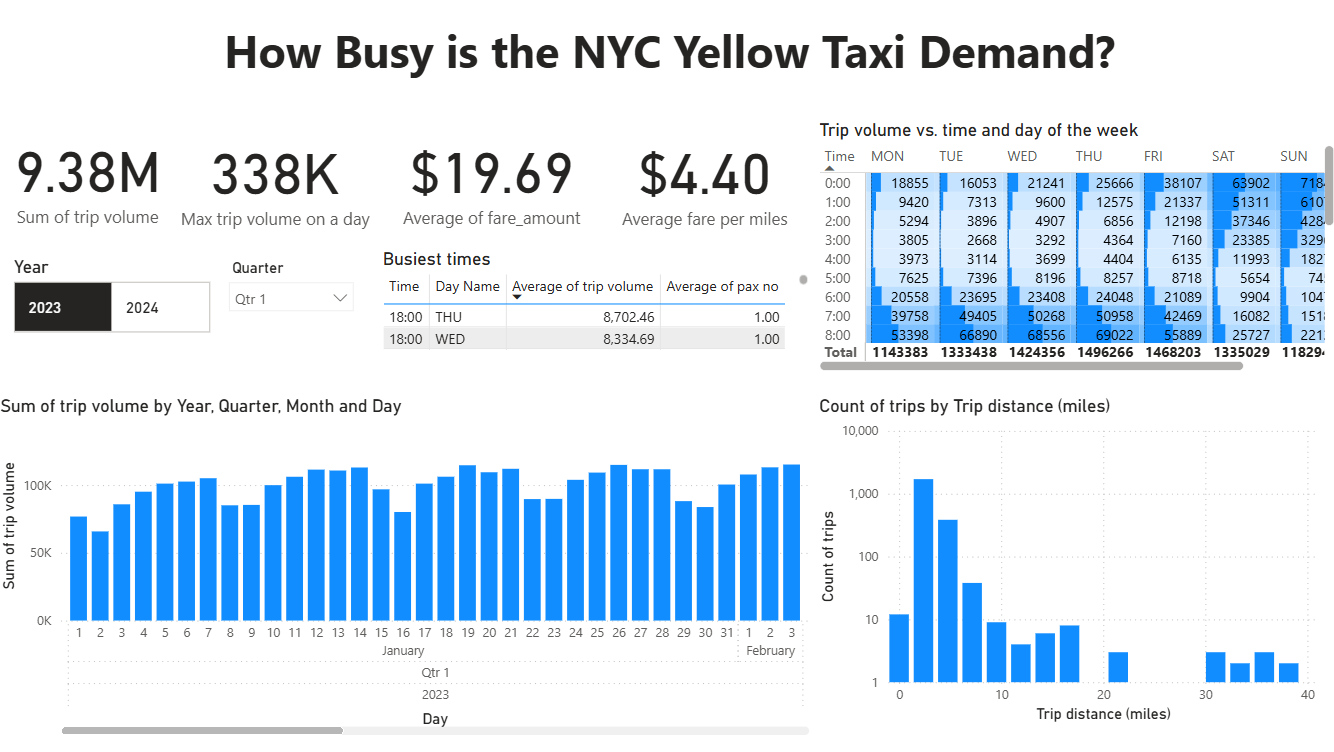

This screenshot's page, from the dashboard's own definition file:
{"tool":"powerbi","page":{"name":"Page 1","canvas":[1280,720],"ordinal":0},"visuals":[{"type":"clusteredColumnChart","fields":{"Y":["Sum(cleaned_hourly_taxi_data.trip_volume)"],"Category":["cleaned_hourly_taxi_data.pickup_hour.Variation.Date Hierarchy.Year","cleaned_hourly_taxi_data.pickup_hour.Variation.Date Hierarchy.Quarter","cleaned_hourly_taxi_data.pickup_hour.Variation.Date Hierarchy.Month","cleaned_hourly_taxi_data.pickup_hour.Variation.Date Hierarchy.Day"]},"box":[0,378,780,328],"z":0},{"type":"slicer","fields":{"Values":["cleaned_hourly_taxi_data.pickup_hour.Variation.Date Hierarchy.Quarter"]},"box":[213.3,243.3,138.3,78.3],"z":1000},{"type":"advancedSlicerVisual","fields":{"Values":["cleaned_hourly_taxi_data.pickup_hour.Variation.Date Hierarchy.Year"]},"box":[13.3,245,198.3,78.3],"z":2000},{"type":"card","fields":{"Values":["Sum(cleaned_hourly_taxi_data.trip_volume)"]},"box":[3.5,114.3,170,110],"z":3000},{"type":"card","fields":{"Values":["Avg(cleaned_hourly_taxi_data.fare_amount)"]},"box":[368.3,115,208.3,108.3],"z":4000},{"type":"textbox","box":[192,16,902,84],"z":5000},{"type":"card","fields":{"Values":["cleaned_hourly_taxi_data.Sum of trip volume max per Day"]},"box":[161.7,115,210,110],"z":6000},{"type":"pivotTable","title":"Trip volume vs. time and day of the week","fields":{"Rows":["cleaned_hourly_taxi_data.Time"],"Values":["Sum(cleaned_hourly_taxi_data.trip volume)"],"Columns":["cleaned_hourly_taxi_data.Day Name","cleaned_hourly_taxi_data.Day of Week"]},"box":[780,115.7,500,244.3],"z":7000},{"type":"clusteredColumnChart","fields":{"Y":["Count(cleaned_hourly_taxi_data.trip_distance)"],"Category":["cleaned_hourly_taxi_data.trip_distance (bins)"]},"box":[780,378.6,484.3,315.7],"z":8000},{"type":"tableEx","title":"Busiest times","fields":{"Values":["cleaned_hourly_taxi_data.Time","cleaned_hourly_taxi_data.Day Name","Avg(cleaned_hourly_taxi_data.trip volume)","Avg(cleaned_hourly_taxi_data.passengers)"]},"box":[365,238.3,415,101.7],"z":9000},{"type":"card","fields":{"Values":["cleaned_hourly_taxi_data.Average fare per miles"]},"box":[571.7,116.7,208.3,108.3],"z":10000}]}

Visuals, with their boxes in screenshot pixels (x1, y1, x2, y2), scaled from the page's 1280x720 canvas onto the 1334x752 screenshot:
clusteredColumnChart - Sum(cleaned_hourly_taxi_data.trip_volume) x cleaned_hourly_taxi_data.pickup_hour.Variation.Date Hierarchy.Year: [x1=0, y1=395, x2=813, y2=737]
slicer - cleaned_hourly_taxi_data.pickup_hour.Variation.Date Hierarchy.Quarter: [x1=222, y1=254, x2=366, y2=336]
advancedSlicerVisual - cleaned_hourly_taxi_data.pickup_hour.Variation.Date Hierarchy.Year: [x1=14, y1=256, x2=221, y2=338]
card - Sum(cleaned_hourly_taxi_data.trip_volume): [x1=4, y1=119, x2=181, y2=234]
card - Avg(cleaned_hourly_taxi_data.fare_amount): [x1=384, y1=120, x2=601, y2=233]
textbox: [x1=200, y1=17, x2=1140, y2=104]
card - cleaned_hourly_taxi_data.Sum of trip volume max per Day: [x1=169, y1=120, x2=387, y2=235]
"Trip volume vs. time and day of the week" pivotTable: [x1=813, y1=121, x2=1333, y2=376]
clusteredColumnChart - Count(cleaned_hourly_taxi_data.trip_distance) x cleaned_hourly_taxi_data.trip_distance (bins): [x1=813, y1=395, x2=1318, y2=725]
"Busiest times" tableEx: [x1=380, y1=249, x2=813, y2=355]
card - cleaned_hourly_taxi_data.Average fare per miles: [x1=596, y1=122, x2=813, y2=235]
